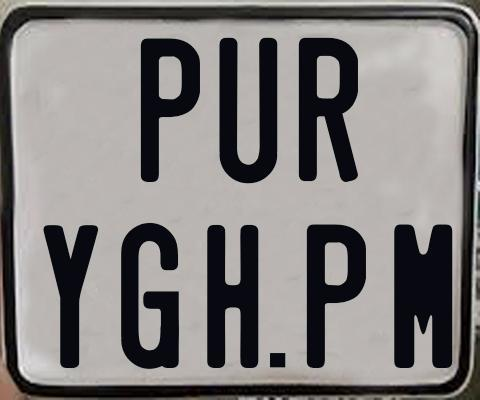G: (119, 221, 177, 368)
H: (206, 223, 257, 369)
M: (393, 223, 455, 370)
P: (304, 222, 369, 367), (138, 36, 201, 183)
R: (299, 37, 361, 185)
U: (218, 38, 279, 187)
Y: (42, 224, 98, 369)
